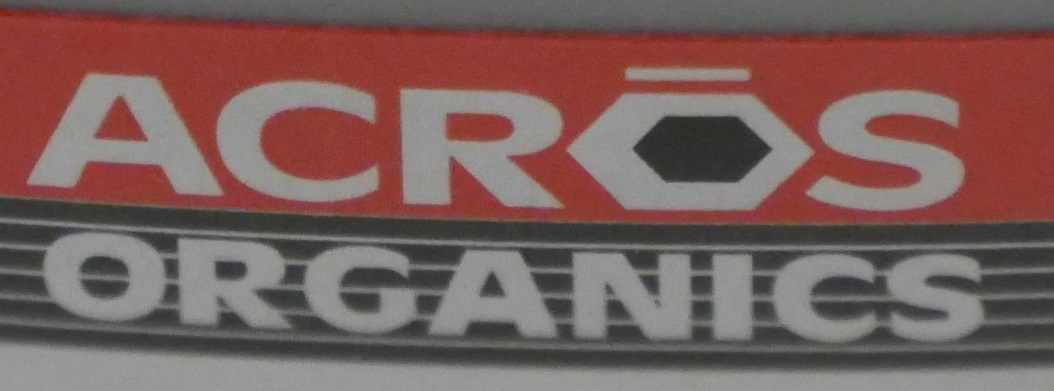AcrosOrganics: (24, 63, 993, 348)
